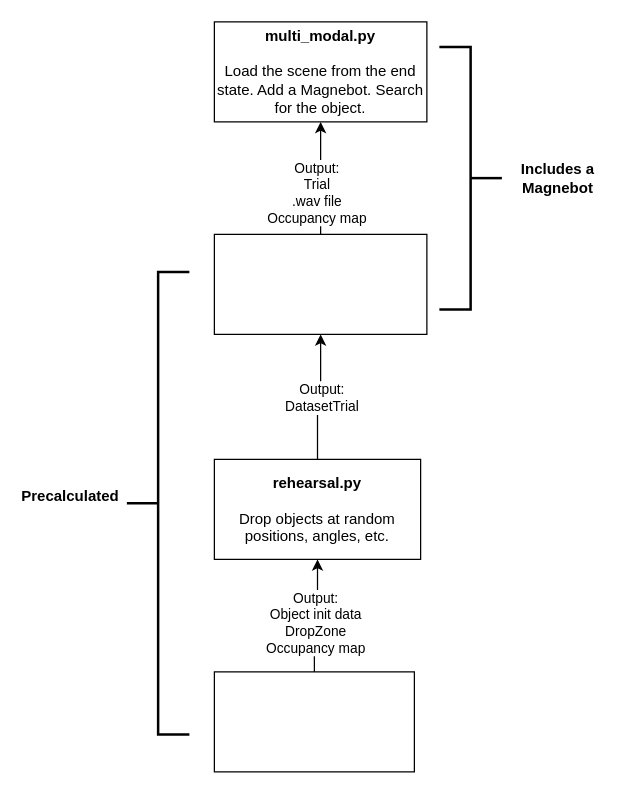
The diagram is 623 pixels wide and 794 high, and some of its shapes have lost their labels. The centre of each missing label's shape, as x and y in pixels:
dataset.py Replay each drop and record the audio.: [320,283]
init_data.py Convert TDW commands to object init data.: [313,721]
